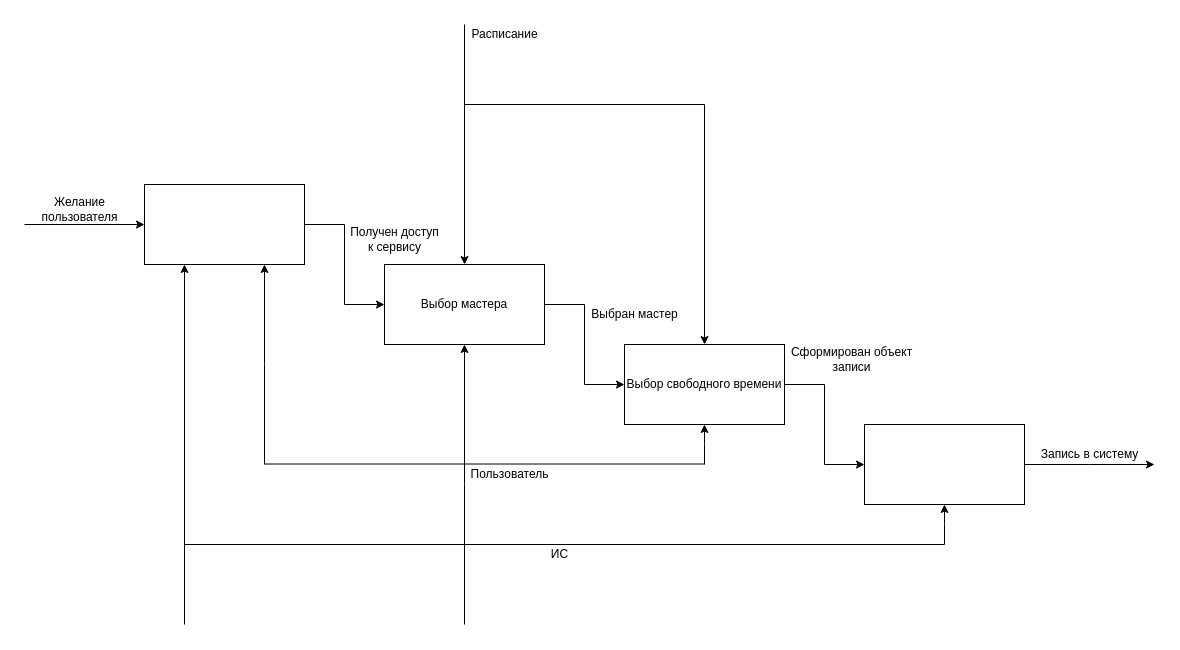
The diagram is 1180 pixels wide and 650 high, and some of its shapes have lost their labels. The centre of each missing label's shape, as x and y in pixels:
"Информация о себе" belongs at [224,224].
"Осуществление записи" belongs at [944,464].
